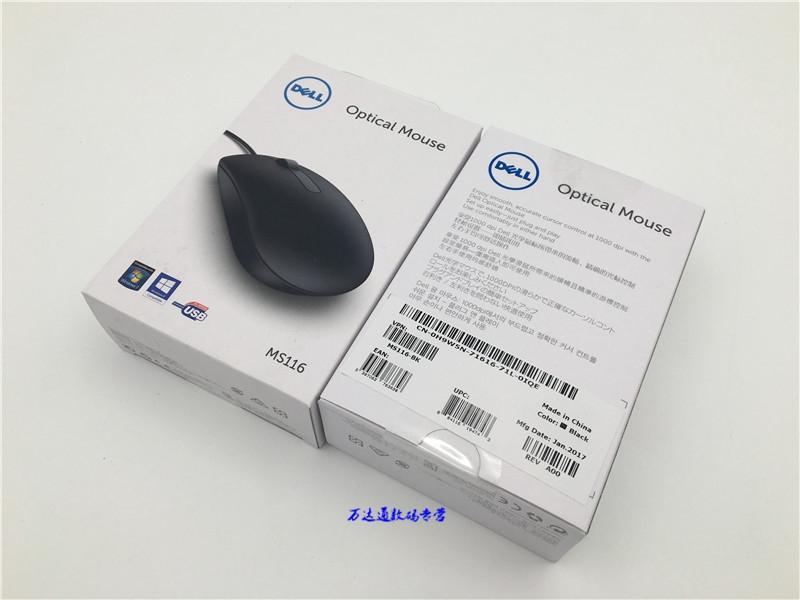dell-mouse-ms116: (197, 134, 384, 300)
